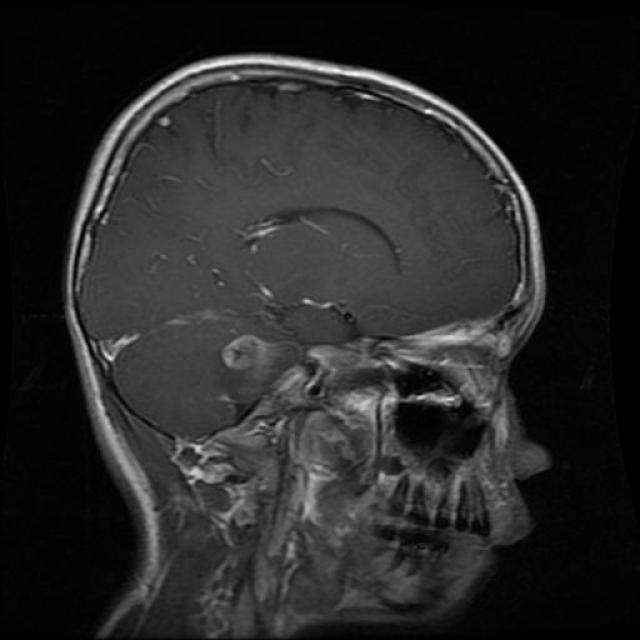glioma: (220, 325, 279, 384)
